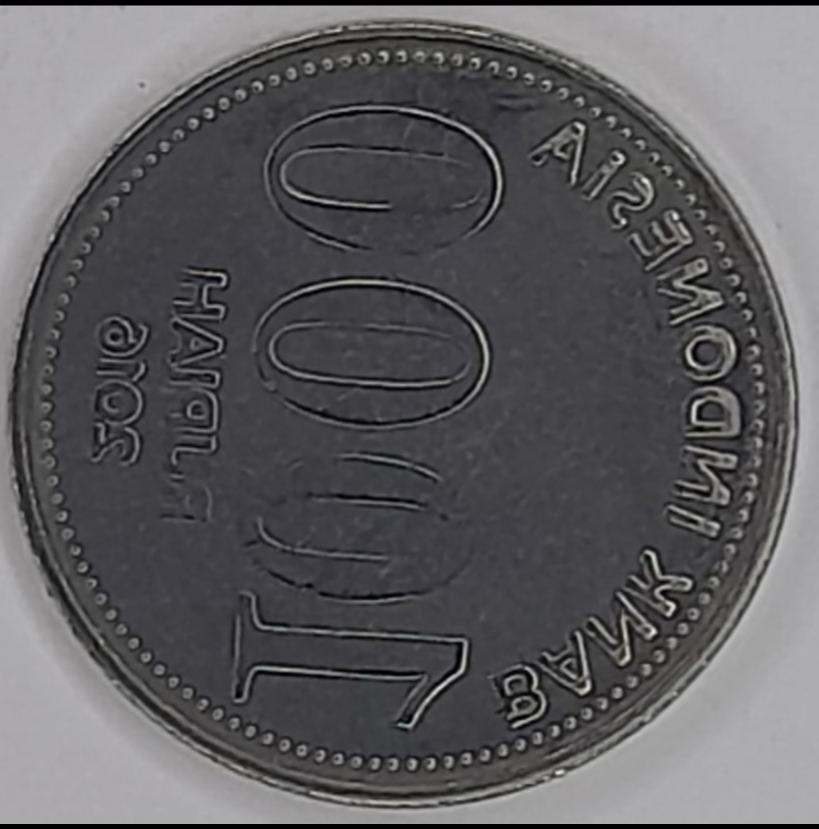coin_1000_e2016: (14, 16, 808, 829)
